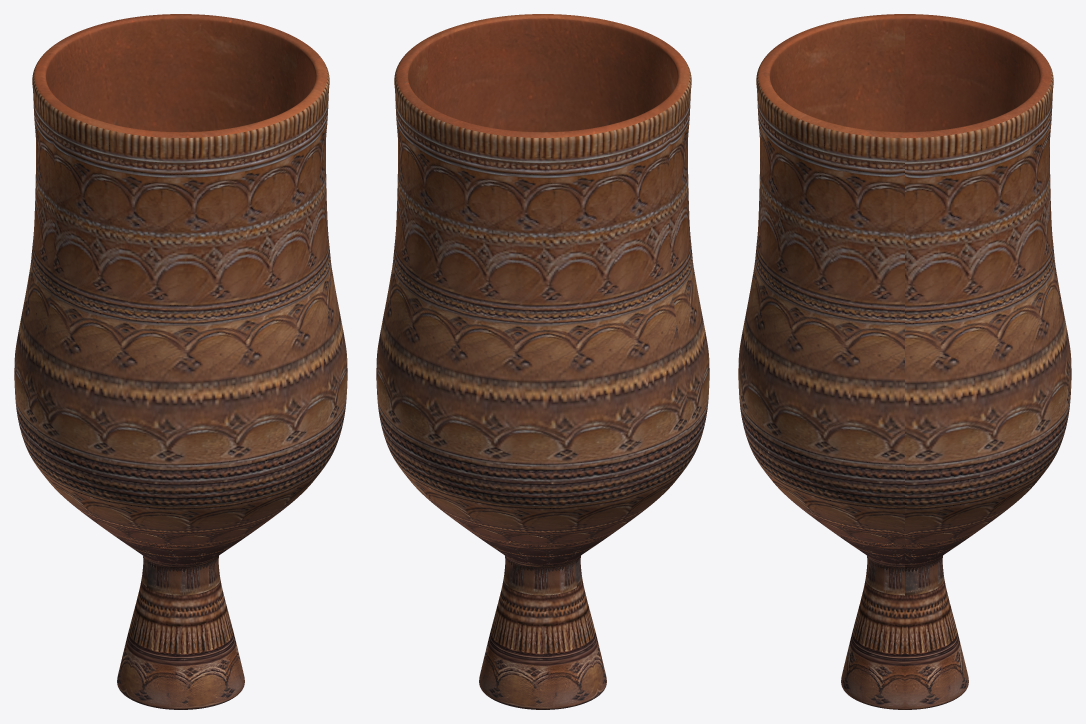
3 renders of one model, left to right at view 1: azimuth 30°, elevation 25°; view 2: azimuth 150°, elevation 25°; view 3: azimuth 270°, elevation 25°, orthographic.
Parts seen in each view (by area): view 1: Cylinder; view 2: Cylinder; view 3: Cylinder.
Part boxes in pixels (x1=…): Cylinder: x1=14, y1=14, x2=347, y2=709; Cylinder: x1=376, y1=14, x2=709, y2=709; Cylinder: x1=738, y1=14, x2=1071, y2=709.
Bounding box in the file's own units: 1.93 × 3.9 × 1.93.
Materials: 1 (1 with a texture image).
